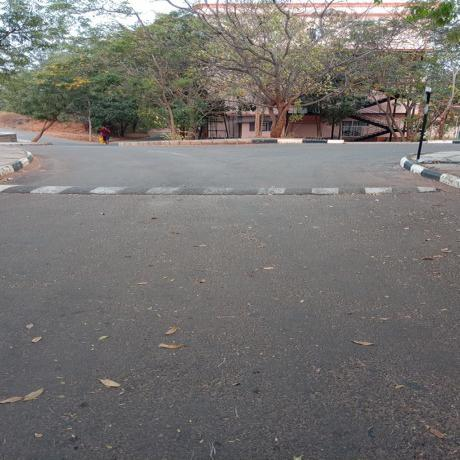Speed Bump: (0, 184, 441, 196)
